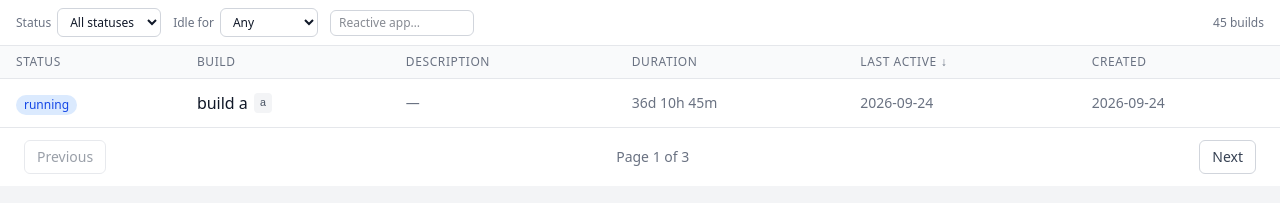
Test: BuildsList › pages with the server's cursor and shows the total
Check: the button "build a" is shown, box [197, 91, 248, 115]
Check: the text "45 builds" is shown, box [1213, 14, 1264, 30]
Click the button "Next" at point(1228, 157), box [1199, 140, 1256, 174]
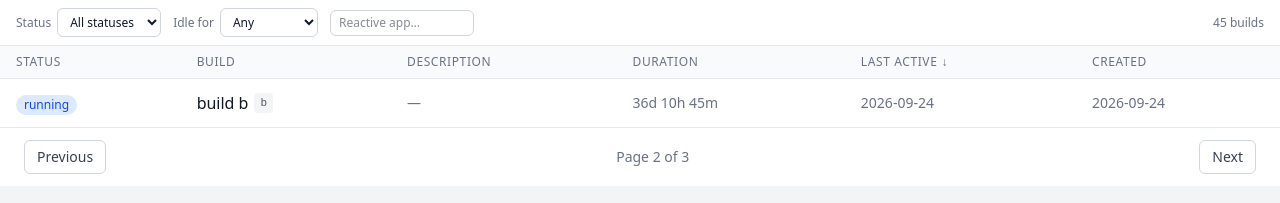
Check: the button "build b" is shown, box [197, 91, 248, 115]
Check: the text "Page 2 of 3" is shown, box [616, 147, 689, 167]
Click the button "Previous" at point(65, 157), box [24, 140, 106, 174]
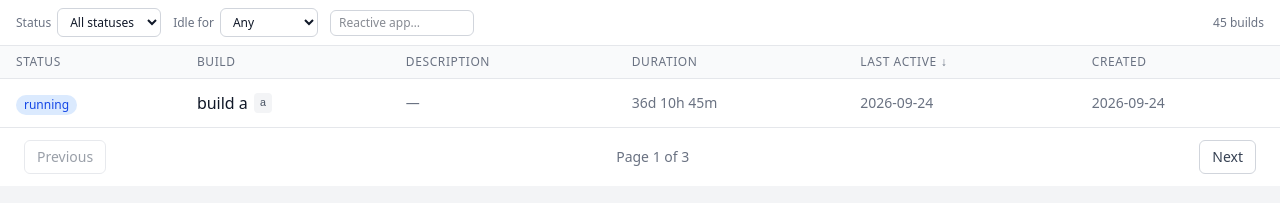
Check: the button "build a" is shown, box [197, 91, 248, 115]
